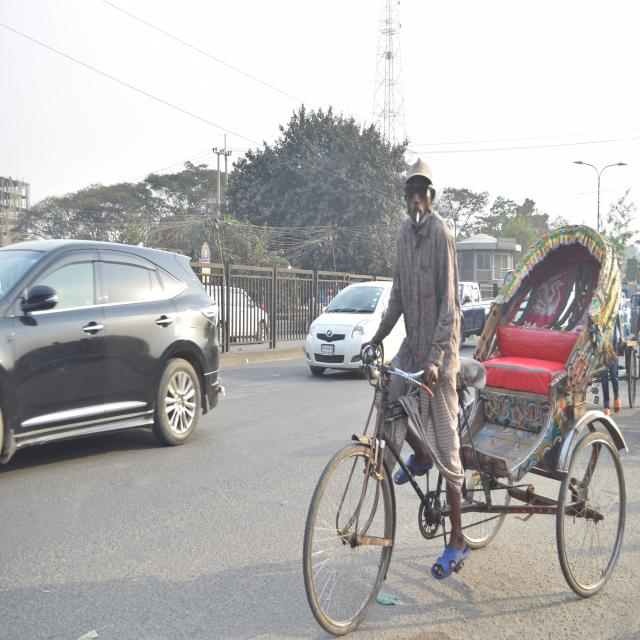car: (0, 222, 227, 497), (302, 272, 399, 379)
